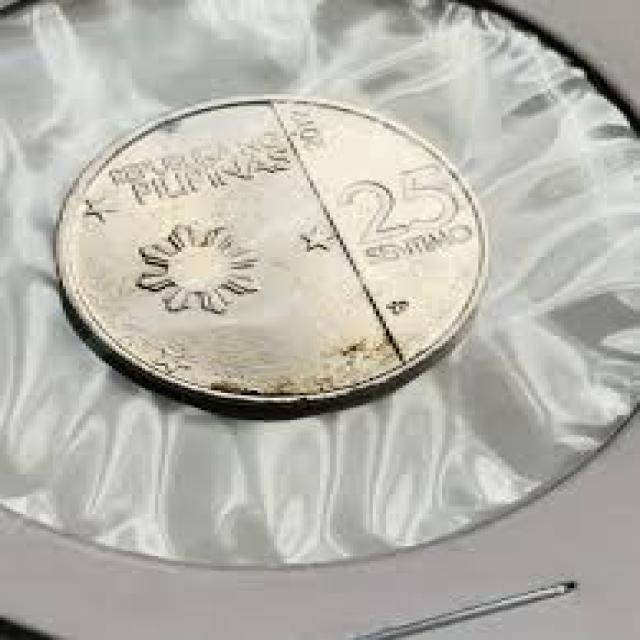25 cents: (55, 81, 499, 420)
